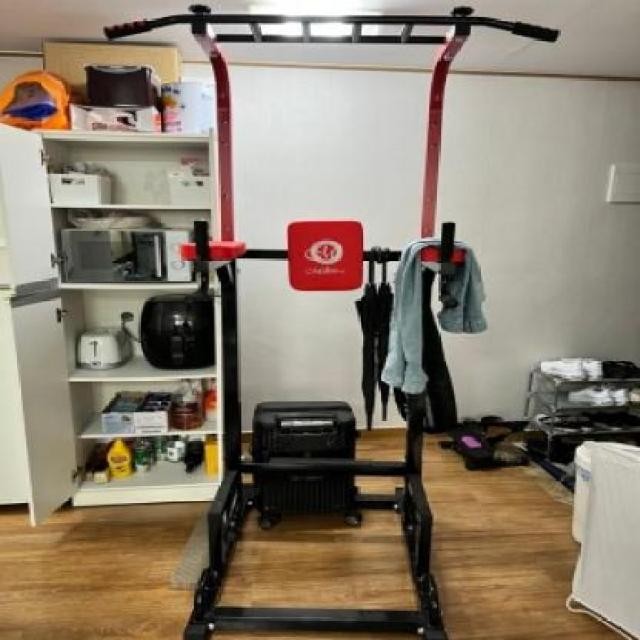chinning dipping: (108, 4, 557, 640)
